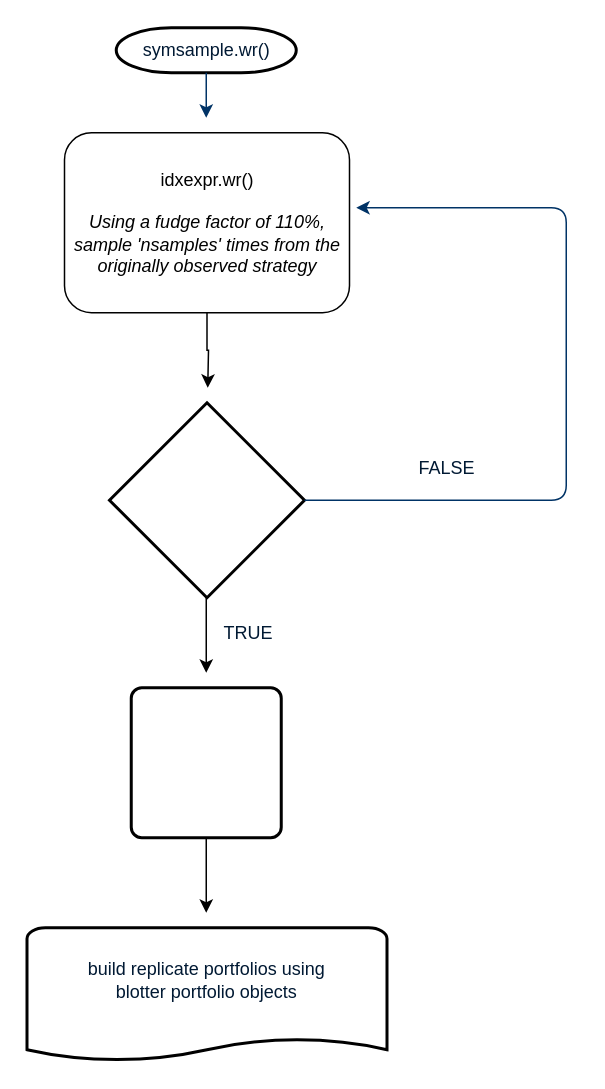
Image size: 605x1089. Some labels were removed from this diagram. The box of each missing label's shape, as (x1, y1, x2, y2) in pixels:
sampled duration > target duration: (107, 400, 305, 598)
truncate and reduce to equate with target duration: (129, 686, 282, 838)
